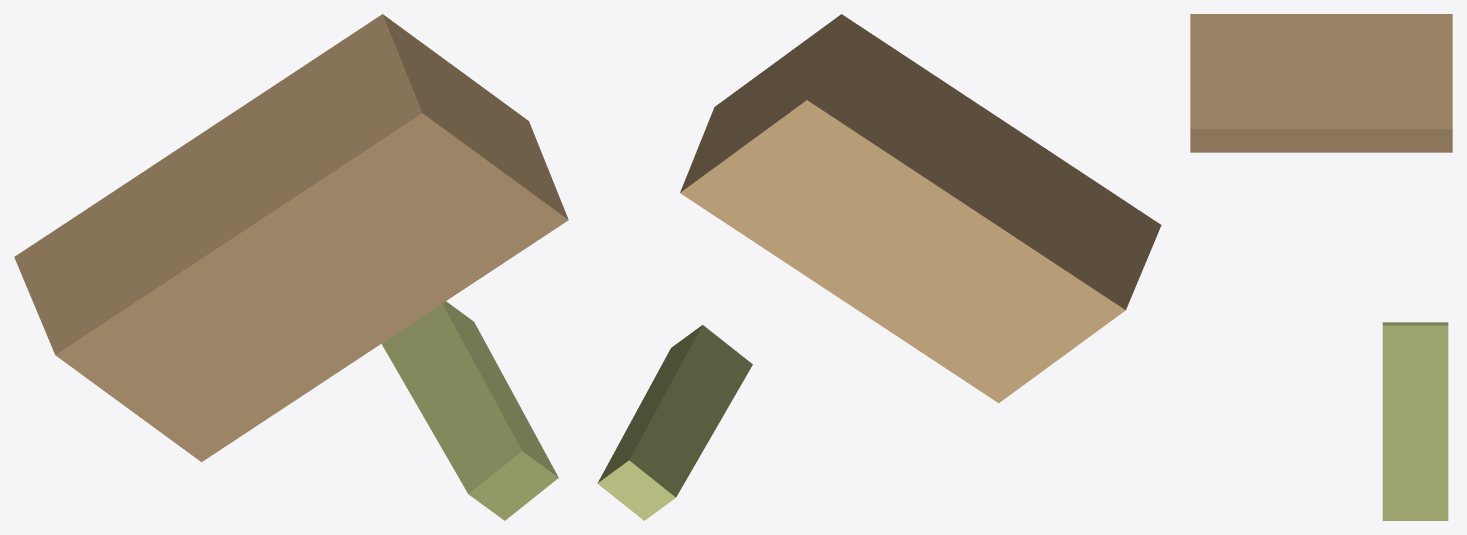
The picture shows the model from 3 angles, left to right: view 1: azimuth 30°, elevation 25°; view 2: azimuth 150°, elevation 25°; view 3: azimuth 270°, elevation 25°; orthographic projection. The views are drawn at different scales.
Visible parts, largest first — view 1: 0_1_0_2_2_0_1_0; view 2: 0_1_0_2_2_0_1_0; view 3: 0_1_0_2_2_0_1_0.
Boxes of the visible parts, x1,y1,x2,y2 form: 0_1_0_2_2_0_1_0: [14, 14, 568, 520]; 0_1_0_2_2_0_1_0: [597, 14, 1161, 520]; 0_1_0_2_2_0_1_0: [1190, 14, 1452, 520].
Bounding box in the file's own units: 47.88 × 45.12 × 24.
